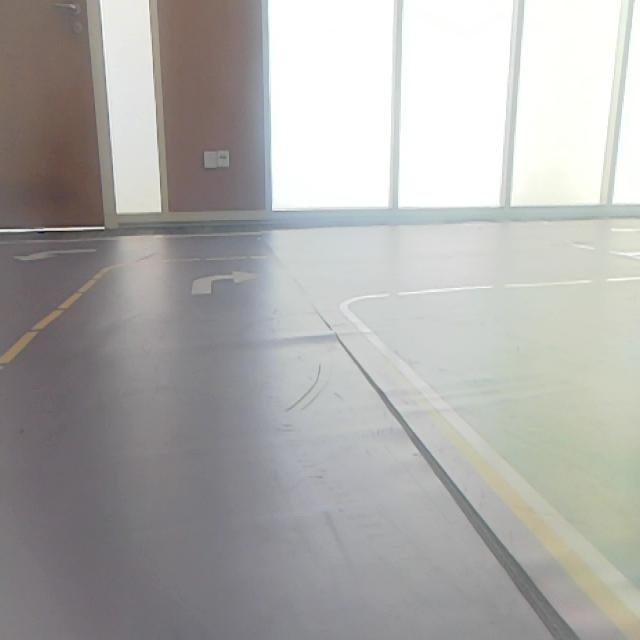left_lane: (0, 266, 109, 376)
right_lane: (341, 309, 640, 638)
